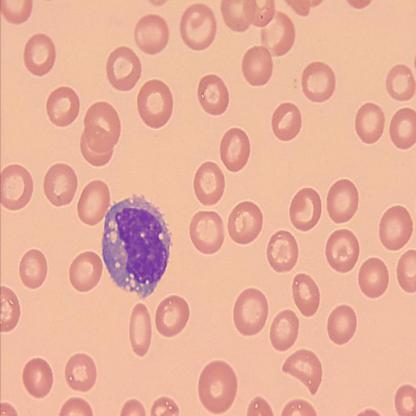Monocyte: (100, 192, 174, 301)
